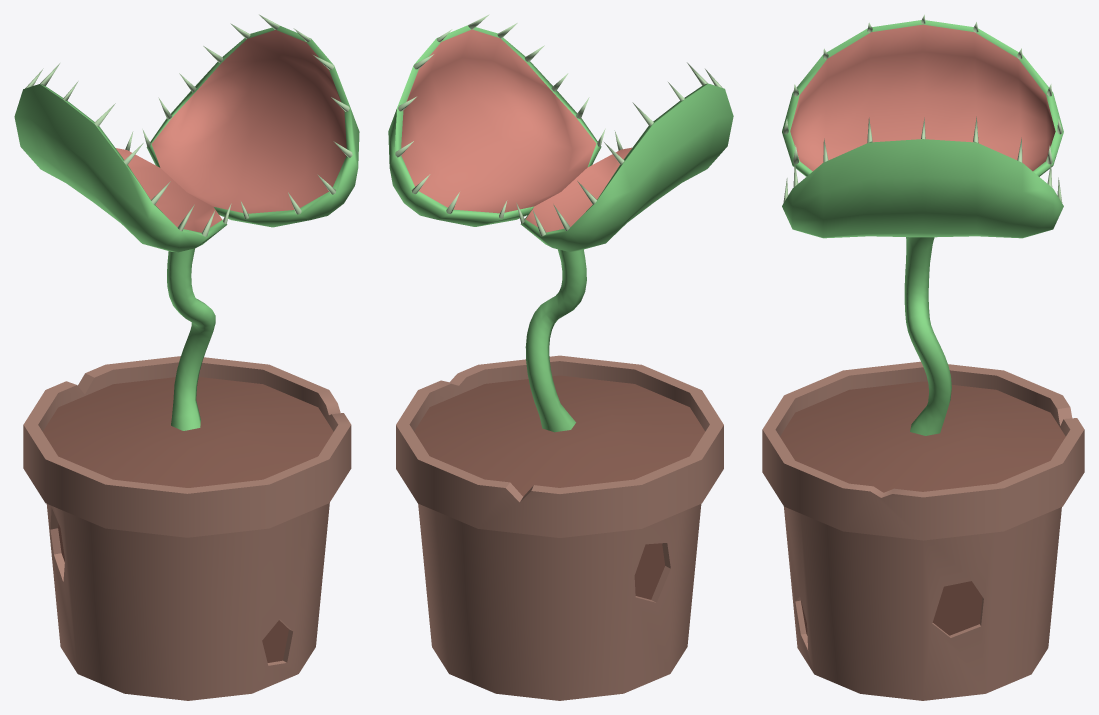
The model's file is flower.fantasy.fbx.
The picture shows the model from 3 angles, left to right: view 1: azimuth 30°, elevation 25°; view 2: azimuth 150°, elevation 25°; view 3: azimuth 270°, elevation 25°; orthographic projection.
Parts seen in each view (by area): view 1: Sphere; view 2: Sphere; view 3: Sphere.
Part boxes in pixels (x1,y1,x2,y2): Sphere: [14, 14, 359, 700]; Sphere: [388, 14, 733, 700]; Sphere: [762, 14, 1084, 700].
Bounding box in the file's own units: 24.03 × 47.91 × 24.03.
